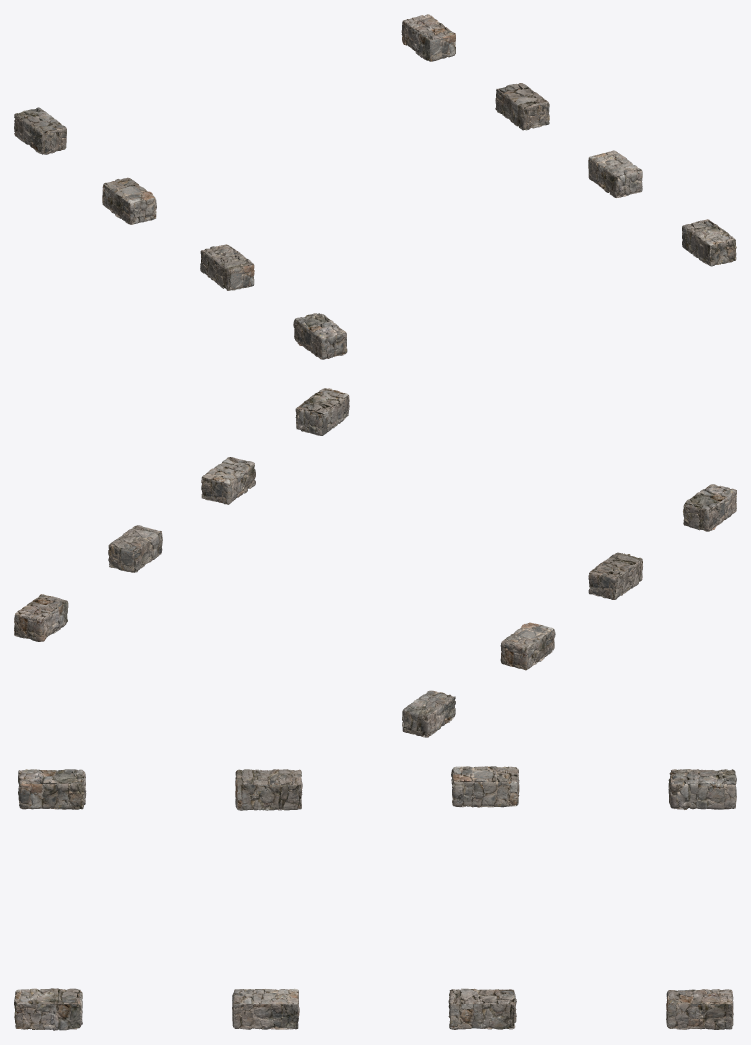
3 renders of one model, top to bottom at view 1: azimuth 30°, elevation 25°; view 2: azimuth 150°, elevation 25°; view 3: azimuth 270°, elevation 25°, orthographic. The views are drawn at different scales.
Visible parts, largest first — view 1: Bases; view 2: Bases; view 3: Bases.
Boxes of the visible parts, x1=… form: Bases: x1=14, y1=14, x2=736, y2=359; Bases: x1=14, y1=388, x2=736, y2=737; Bases: x1=14, y1=766, x2=736, y2=1030.
Bounding box in the file's own units: 20.83 × 1.25 × 26.66.
1 material, 1 textured.
